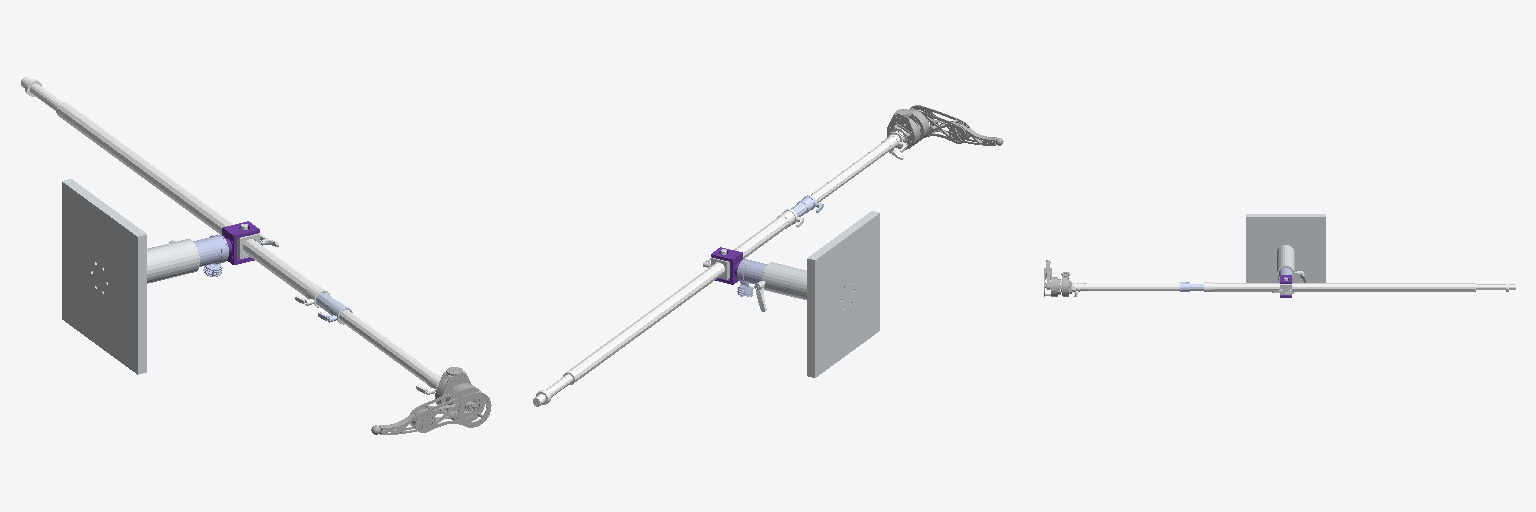
The robot description file, URDF, robot "BS_T_003_000_000":
<?xml version="1.0" encoding="utf-8"?>
<!-- This URDF was automatically created by SolidWorks to URDF Exporter! Originally created by [author] ([email redacted]) 
     Commit Version: 1.6.0-4-g7f85cfe  Build Version: 1.6.7995.38578
     For more information, please see http://wiki.ros.org/sw_urdf_exporter -->
<robot
  name="BS_T_003_000_000">
  <link name="world"/>
  <joint name="fixed" type="fixed">
    <parent link="world"/>
    <child link="base_link"/>
  </joint>
  <link
    name="base_link">
    <inertial>
      <origin
        xyz="0.031642560862726 0.000151985737169899 -3.54727825915968E-05"
        rpy="0 0 0" />
      <mass
        value="15.2604761162792" />
      <inertia
        ixx="0"
        ixy="0"
        ixz="0"
        iyy="0"
        iyz="0"
        izz="0" />
    </inertial>
    <visual>
      <origin
        xyz="0 0 0"
        rpy="0 0 0" />
      <geometry>
        <mesh
          filename="./meshes/base_link.STL" />
      </geometry>
      <material
        name="">
        <color
          rgba="0.898039215686275 0.917647058823529 0.929411764705882 1" />
      </material>
    </visual>
  </link>
  <link
    name="link_passive_linear_vertical">
    <inertial>
      <origin
        xyz="0.00248453696671044 0.000697283718244927 -0.191114350260711"
        rpy="0 0 0" />
      <mass
        value="1.24650058624133" />
      <inertia
        ixx="0"
        ixy="0"
        ixz="0"
        iyy="0"
        iyz="0"
        izz="0" />
    </inertial>
    <visual>
      <origin
        xyz="0 0 0"
        rpy="0 0 0" />
      <geometry>
        <mesh
          filename="./meshes/link_passive_linear_vertical.STL" />
      </geometry>
      <material
        name="">
        <color
          rgba="0.792156862745098 0.819607843137255 0.933333333333333 1" />
      </material>
    </visual>
  </link>
  <joint
    name="joint_passive_linear_1"
    type="fixed">
    <origin
      xyz="0.44 0 0"
      rpy="0 1.5707963267949 0" />
    <parent
      link="base_link" />
    <child
      link="link_passive_linear_vertical" />
    <axis
      xyz="0 0 1" />
    <limit
      lower="0"
      upper="0"
      effort="0"
      velocity="0" />
  </joint>
  <link
    name="link_yaw">
    <inertial>
      <origin
        xyz="6.21004183637838E-05 2.57503446451324E-08 -0.053410010726096"
        rpy="0 0 0" />
      <mass
        value="0.592796251654104" />
      <inertia
        ixx="0"
        ixy="0"
        ixz="0"
        iyy="0"
        iyz="0"
        izz="0" />
    </inertial>
    <visual>
      <origin
        xyz="0 0 0"
        rpy="0 0 0" />
      <geometry>
        <mesh
          filename="./meshes/link_yaw.STL" />
      </geometry>
      <material
        name="">
        <color
          rgba="0.5 0.3 0.7 1" />
      </material>
    </visual>
  </link>
  <joint
    name="joint_yaw"
    type="continuous">
    <origin
      xyz="0 0 0"
      rpy="0 0 0" />
    <parent
      link="link_passive_linear_vertical" />
    <child
      link="link_yaw" />
    <axis
      xyz="0 0 1" />
  </joint>
  <link
    name="link_pitch">
    <inertial>
      <origin
        xyz="0.000509374570132799 -0.000349729012141437 0.00183612370207631"
        rpy="0 0 0" />
      <mass
        value="0.411507158674437" />
      <inertia
        ixx="0"
        ixy="0"
        ixz="0"
        iyy="0"
        iyz="0"
        izz="0" />
    </inertial>
    <visual>
      <origin
        xyz="0 0 0"
        rpy="0 0 0" />
      <geometry>
        <mesh
          filename="./meshes/link_pitch.STL" />
      </geometry>
      <material
        name="">
        <color
          rgba="0.898039215686275 0.917647058823529 0.929411764705882 1" />
      </material>
    </visual>
  </link>
  <joint
    name="joint_pitch"
    type="revolute">
    <origin
      xyz="0 0 0"
      rpy="0 0 0" />
    <parent
      link="link_yaw" />
    <child
      link="link_pitch" />
    <axis
      xyz="1 0 0" />
    <limit
      lower="-0.7"
      upper="1.5708"
      effort="0"
      velocity="0" />
  </joint>
  <link
    name="link_passive_linear_2">
    <inertial>
      <origin
        xyz="-0.000217203966542123 -6.07745801403516E-06 -1.10774775825784"
        rpy="0 0 0" />
      <mass
        value="1.31966574710553" />
      <inertia
        ixx="0"
        ixy="0"
        ixz="0"
        iyy="0"
        iyz="0"
        izz="0" />
    </inertial>
    <visual>
      <origin
        xyz="0 0 0"
        rpy="0 0 0" />
      <geometry>
        <mesh
          filename="./meshes/link_passive_linear_2.STL" />
      </geometry>
      <material
        name="">
        <color
          rgba="1 1 1 1" />
      </material>
    </visual>
  </link>
  <joint
    name="joint_passive_linear_2"
    type="fixed">
    <origin
      xyz="0 -0.41 0"
      rpy="1.5707963267949 -1.5707963267949 0" />
    <parent
      link="link_pitch" />
    <child
      link="link_passive_linear_2" />
    <axis
      xyz="0 0 -1" />
    <limit
      lower="0"
      upper="0"
      effort="0"
      velocity="0" />
  </joint>
  <link
    name="link_passive_linear_3">
    <inertial>
      <origin
        xyz="-0.000630879735210643 -8.42278128329298E-06 -0.643003931001163"
        rpy="0 0 0" />
      <mass
        value="0.487068905970872" />
      <inertia
        ixx="0"
        ixy="0"
        ixz="0"
        iyy="0"
        iyz="0"
        izz="0" />
    </inertial>
    <visual>
      <origin
        xyz="0 0 0"
        rpy="0 0 0" />
      <geometry>
        <mesh
          filename="./meshes/link_passive_linear_3.STL" />
      </geometry>
      <material
        name="">
        <color
          rgba="0.866666666666667 0.909803921568627 1 1" />
      </material>
    </visual>
  </link>
  <joint
    name="joint_passive_linear_3"
    type="fixed">
    <origin
      xyz="0 0 0.12"
      rpy="0 0 0" />
    <parent
      link="link_passive_linear_2" />
    <child
      link="link_passive_linear_3" />
    <axis
      xyz="0 0 -1" />
    <limit
      lower="0"
      upper="0"
      effort="0"
      velocity="0" />
  </joint>
  <link
    name="link_passive_linear_4">
    <inertial>
      <origin
        xyz="-0.000674049658381637 -5.2876073195846E-05 -0.661469333744277"
        rpy="0 0 0" />
      <mass
        value="0.454735171291637" />
      <inertia
        ixx="0"
        ixy="0"
        ixz="0"
        iyy="0"
        iyz="0"
        izz="0" />
    </inertial>
    <visual>
      <origin
        xyz="0 0 0"
        rpy="0 0 0" />
      <geometry>
        <mesh
          filename="./meshes/link_passive_linear_4.STL" />
      </geometry>
      <material
        name="">
        <color
          rgba="1 1 1 1" />
      </material>
    </visual>
  </link>
  <joint
    name="joint_passive_linear_4"
    type="fixed">
    <origin
      xyz="0 0 0.51575"
      rpy="0 0 0" />
    <parent
      link="link_passive_linear_3" />
    <child
      link="link_passive_linear_4" />
    <axis
      xyz="0 0 -1" />
    <limit
      lower="0"
      upper="0"
      effort="0"
      velocity="0" />
  </joint>
  <link
    name="link_passive_linear_5">
    <inertial>
      <origin
        xyz="4.9981E-05 -0.00076369 -0.66731"
        rpy="0 0 0" />
      <mass
        value="0.38654" />
      <inertia
        ixx="0"
        ixy="0"
        ixz="0"
        iyy="0"
        iyz="0"
        izz="0" />
    </inertial>
    <visual>
      <origin
        xyz="0 0 0"
        rpy="0 0 0" />
      <geometry>
        <mesh
          filename="./meshes/link_passive_linear_5.STL" />
      </geometry>
      <material
        name="">
        <color
          rgba="1 1 1 1" />
      </material>
    </visual>
  </link>
  <joint
    name="joint_passive_linear_5"
    type="fixed">
    <origin
      xyz="0 0 0.034"
      rpy="0 0 0" />
    <parent
      link="link_passive_linear_4" />
    <child
      link="link_passive_linear_5" />
    <axis
      xyz="0 0 -1" />
    <limit
      lower="0"
      upper="0"
      effort="0"
      velocity="0" />
  </joint>
  <link
    name="link_endeffektor_roll">
    <inertial>
      <origin
        xyz="3.8858E-16 9.2701E-14 -0.01895"
        rpy="0 0 0" />
      <mass
        value="0.1254" />
      <inertia
        ixx="0"
        ixy="0"
        ixz="0"
        iyy="0"
        iyz="0"
        izz="0" />
    </inertial>
    <visual>
      <origin
        xyz="0 0 0"
        rpy="0 0 0" />
      <geometry>
        <mesh
          filename="./meshes/link_endeffektor_roll.STL" />
      </geometry>
      <material
        name="">
        <color
          rgba="0.89804 0.91765 0.92941 1" />
      </material>
    </visual>
  </link>
  <joint
    name="joint_endeffektor_roll"
    type="fixed">
    <origin
      xyz="0 0 0"
      rpy="0 0 0" />
    <parent
      link="link_passive_linear_5" />
    <child
      link="link_endeffektor_roll" />
    <axis
      xyz="0 0 -1" />
  </joint>
  <link
    name="Link_Hip_Roll">
    <inertial>
      <origin
        xyz="0.0031858 -0.00028131 -0.066103"
        rpy="0 0 0" />
      <mass
        value="0.54342" />
      <inertia
        ixx="0"
        ixy="0"
        ixz="0"
        iyy="0"
        iyz="0"
        izz="0" />
    </inertial>
    <visual>
      <origin
        xyz="0 0 0"
        rpy="0 0 0" />
      <geometry>
        <mesh
          filename="../meshes/Link_Hip_Roll.STL" />
      </geometry>
      <material
        name="">
        <color
          rgba="0.75294 0.75294 0.75294 1" />
      </material>
    </visual>
  </link>
  <joint
    name="Joint_Hip_Roll"
    type="fixed">
    <origin
      xyz="0 0.075 0.025"
      rpy="3.14159265359 1.5707963267949 -1.5707963267949" />
    <parent
      link="link_endeffektor_roll" />
    <child
      link="Link_Hip_Roll" />
    <axis
      xyz="0 0 0" />
  </joint>
  <link
    name="Link_Hip_Pitch">
    <inertial>
      <origin
        xyz="-0.015486 -0.00028849 -0.044683"
        rpy="0 0 0" />
      <mass
        value="0.52736" />
      <inertia
        ixx="0"
        ixy="0"
        ixz="0"
        iyy="0"
        iyz="0"
        izz="0" />
    </inertial>
    <visual>
      <origin
        xyz="0 0 0"
        rpy="0 0 0" />
      <geometry>
        <mesh
          filename="../meshes/Link_Hip_Pitch.STL" />
      </geometry>
      <material
        name="">
        <color
          rgba="0.75294 0.75294 0.75294 1" />
      </material>
    </visual>
    <collision>
      <origin
        xyz="0 0 0"
        rpy="0 0 0" />
      <geometry>
        <mesh
          filename="../meshes/Link_Hip_Pitch.STL" />
      </geometry>
    </collision>
  </link>
  <joint
    name="Joint_Hip_Pitch"
    type="revolute">
    <origin
      xyz="-0.0146 0 -0.072"
      rpy="-1.5707963267949 0 -1.5707963267949" />
    <parent
      link="Link_Hip_Roll" />
    <child
      link="Link_Hip_Pitch" />
    <axis
      xyz="0 0 -1" />
    <dynamics
      damping="0.0"
      friction="0.5"/>
    <limit
      effort="0"
      velocity="0" />
  </joint>
  <link
    name="Link_Knee_Pitch">
    <inertial>
      <origin
        xyz="-0.044768 -0.0009312 -1.74E-10"
        rpy="0 0 0" />
      <mass
        value="0.11794" />
      <inertia
        ixx="0"
        ixy="0"
        ixz="0"
        iyy="0"
        iyz="0"
        izz="0" />
    </inertial>
    <visual>
      <origin
        xyz="0 0 0"
        rpy="0 0 0" />
      <geometry>
        <mesh
          filename="../meshes/Link_Knee_Pitch.STL" />
      </geometry>
      <material
        name="">
        <color
          rgba="0.75294 0.75294 0.75294 1" />
      </material>
    </visual>
    <collision>
      <origin
        xyz="0 0 0"
        rpy="0 0 0" />
      <geometry>
        <mesh
          filename="../meshes/Link_Knee_Pitch.STL" />
      </geometry>
      <lateral_friction value="1"/>
    </collision>
    <lateral_friction value="1"/>
  </link>
  <joint
    name="Joint_Knee_Pitch"
    type="revolute">
    <origin
      xyz="-0.15 0 -0.0742"
      rpy="0 0 0" />
    <parent
      link="Link_Hip_Pitch" />
    <child
      link="Link_Knee_Pitch" />
    <axis
      xyz="0 0 -1" />
    <dynamics
      damping="0.0"
      friction="0.5"/>
    <limit
      effort="160"
      velocity="410" />
  </joint>
</robot>

--- Facts derived from the render (not from the file) ---
Views: 3 orthographic renders of the robot side by side, from view 1: azimuth 30°, elevation 25°; view 2: azimuth 150°, elevation 25°; view 3: azimuth 270°, elevation 25°.
Robot: BS_T_003_000_000 — 13 links, 12 joints (3 revolute, 1 continuous, 8 fixed); root link world; default pose: every joint at zero.
Visible links, largest first — view 1: base_link, link_passive_linear_2, Link_Hip_Pitch, link_passive_linear_4, link_passive_linear_vertical, link_yaw, Link_Knee_Pitch, Link_Hip_Roll, link_passive_linear_3; view 2: base_link, link_passive_linear_2, link_passive_linear_4, Link_Hip_Pitch, link_passive_linear_vertical, Link_Hip_Roll, link_yaw; view 3: base_link, link_passive_linear_2, link_passive_linear_4.
Link boxes in pixels (x1=…): base_link: x1=62, y1=179, x2=199, y2=374; link_passive_linear_2: x1=21, y1=77, x2=329, y2=307; Link_Hip_Pitch: x1=410, y1=383, x2=491, y2=432; link_passive_linear_4: x1=339, y1=310, x2=440, y2=394; link_passive_linear_vertical: x1=193, y1=234, x2=228, y2=276; link_yaw: x1=222, y1=221, x2=259, y2=264; Link_Knee_Pitch: x1=371, y1=407, x2=431, y2=434; Link_Hip_Roll: x1=435, y1=367, x2=470, y2=410; link_passive_linear_3: x1=316, y1=293, x2=352, y2=324; base_link: x1=754, y1=211, x2=879, y2=377; link_passive_linear_2: x1=533, y1=209, x2=803, y2=406; link_passive_linear_4: x1=810, y1=134, x2=907, y2=202; Link_Hip_Pitch: x1=909, y1=105, x2=970, y2=143; link_passive_linear_vertical: x1=737, y1=259, x2=767, y2=296; Link_Hip_Roll: x1=887, y1=109, x2=919, y2=149; link_yaw: x1=711, y1=247, x2=742, y2=284; base_link: x1=1246, y1=214, x2=1325, y2=282; link_passive_linear_2: x1=1204, y1=282, x2=1515, y2=291; link_passive_linear_4: x1=1077, y1=283, x2=1179, y2=291.
Size in the robot's own frame: 0.5055 by 2.36 by 0.4 metres.
Meshes: 12 distinct files referenced, 12 mesh visuals loaded (12 binary STL).